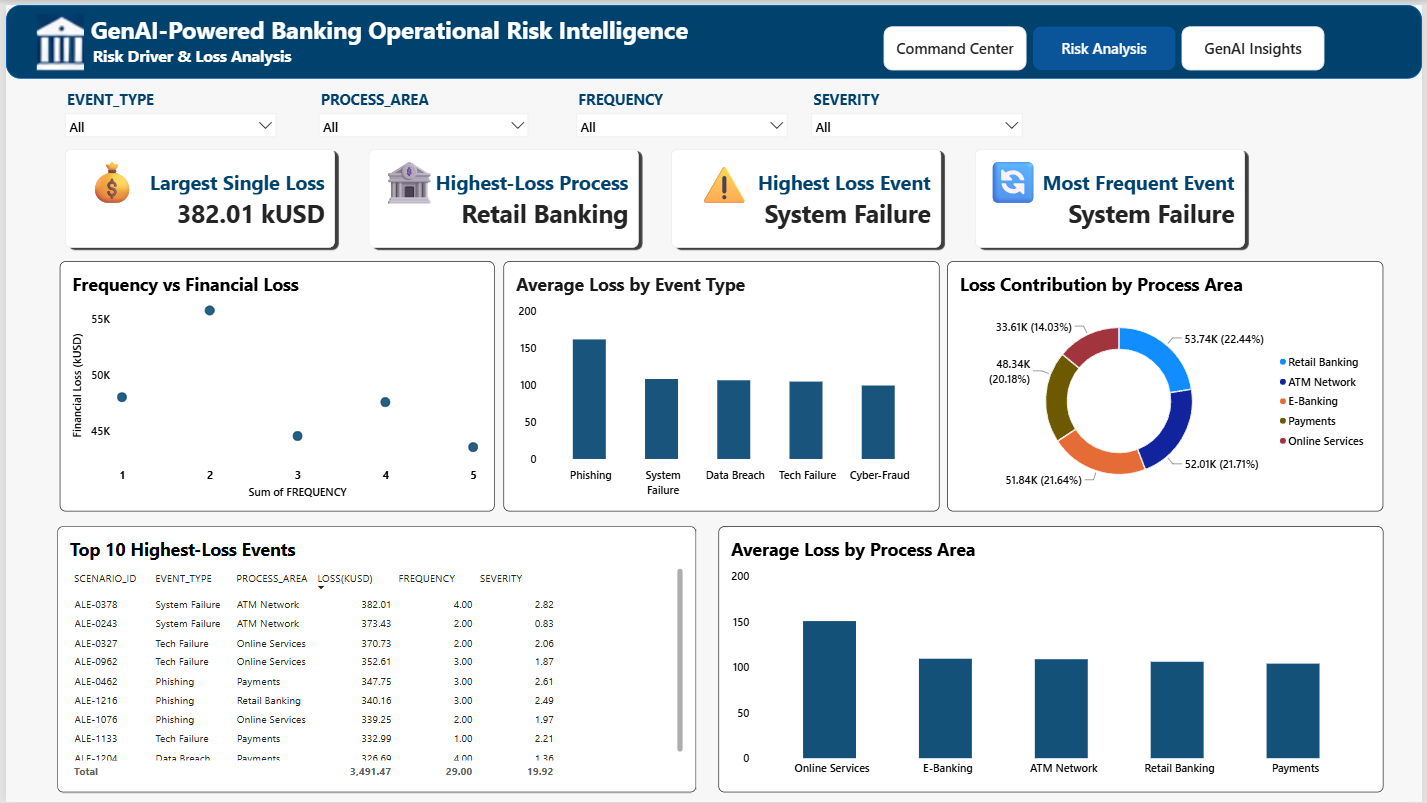

What the dashboard file says about the page in this screenshot:
{"tool":"powerbi","page":{"name":"Risk Analysis","canvas":[1920,1080],"ordinal":1},"visuals":[{"type":"shape","box":[0,0,1920,100],"z":0},{"type":"textbox","box":[0,11.7,1920,88.3],"z":1000},{"type":"image","box":[16.7,11.7,113.3,76.7],"z":2000},{"type":"pageNavigator","box":[1190,28.3,600,60],"z":3000},{"type":"slicer","fields":{"Values":["operational risk.EVENT_TYPE"]},"box":[73.7,111.5,300.2,70.1],"z":4000},{"type":"slicer","fields":{"Values":["operational risk.PROCESS_AREA"]},"box":[417.1,111.5,298.4,70.1],"z":5000},{"type":"slicer","fields":{"Values":["operational risk.FREQUENCY_NK"]},"box":[765.8,111.5,300.2,70.1],"z":6000},{"type":"slicer","fields":{"Values":["operational risk.SEVERITY_XI"]},"box":[1084,111.5,300.2,70.1],"z":7000},{"type":"cardVisual","fields":{"Data":["operational risk.Largest Single Loss 1"]},"box":[73.3,188.3,380,148.3],"z":8000},{"type":"cardVisual","fields":{"Data":["operational risk.Highest-Loss Process"]},"box":[484.4,188.3,380,148.3],"z":9000},{"type":"cardVisual","fields":{"Data":["operational risk.Highest-Loss Event Type"]},"box":[895.6,188.3,380,148.3],"z":10000},{"type":"cardVisual","fields":{"Data":["operational risk.Most Frequent Event Type"]},"box":[1306.7,188.3,380,148.3],"z":11000},{"type":"clusteredColumnChart","title":"Average Loss by Event Type","fields":{"Category":["operational risk.EVENT_TYPE"],"Y":["Avg(operational risk.LOSS_AMOUNT_KUSD)"]},"box":[675,348.2,591.1,339.3],"z":12000},{"type":"donutChart","title":"Loss Contribution by Process Area","fields":{"Category":["operational risk.PROCESS_AREA"],"Y":["Sum(operational risk.LOSS_AMOUNT_KUSD)"]},"box":[1276.8,348.2,591.1,339.3],"z":13000},{"type":"tableEx","title":"Top 10 Highest-Loss Events","fields":{"Values":["operational risk.SCENARIO_ID","operational risk.EVENT_TYPE","operational risk.PROCESS_AREA","Sum(operational risk.LOSS_AMOUNT_KUSD)","Sum(operational risk.FREQUENCY_NK)","Sum(operational risk.SEVERITY_XI)"]},"box":[69.6,707.1,866.1,360.7],"z":14000},{"type":"clusteredColumnChart","title":"Average Loss by Process Area","fields":{"Category":["operational risk.PROCESS_AREA"],"Y":["Avg(operational risk.LOSS_AMOUNT_KUSD)"]},"box":[966.1,707.1,901.8,360.7],"z":15000},{"type":"scatterChart","title":"Frequency vs Financial Loss","fields":{"Category":["Frequency Loss Summary1.FREQUENCY_NK"],"X":["Sum(Frequency Loss Summary1.FREQUENCY_NK)"],"Y":["Sum(Frequency Loss Summary1.Total Loss)"]},"box":[73.2,348.2,589.3,339.3],"z":16000},{"type":"textbox","box":[105,200,99,84],"z":17000},{"type":"textbox","box":[506.7,200,108.3,83.3],"z":18000},{"type":"textbox","box":[935,200,108.3,83.3],"z":19000},{"type":"textbox","box":[1326.7,200,81.7,83.3],"z":20000}]}

Visuals, with their boxes in screenshot pixels (x1, y1, x2, y2), scaled from the page's 1920x1080 canvas onto the 1427x803 screenshot:
shape: (left=0, top=0, right=1426, bottom=74)
textbox: (left=0, top=9, right=1426, bottom=74)
image: (left=12, top=9, right=97, bottom=66)
pageNavigator: (left=884, top=21, right=1330, bottom=66)
slicer - operational risk.EVENT_TYPE: (left=55, top=83, right=278, bottom=135)
slicer - operational risk.PROCESS_AREA: (left=310, top=83, right=532, bottom=135)
slicer - operational risk.FREQUENCY_NK: (left=569, top=83, right=792, bottom=135)
slicer - operational risk.SEVERITY_XI: (left=806, top=83, right=1029, bottom=135)
cardVisual - operational risk.Largest Single Loss 1: (left=54, top=140, right=337, bottom=250)
cardVisual - operational risk.Highest-Loss Process: (left=360, top=140, right=642, bottom=250)
cardVisual - operational risk.Highest-Loss Event Type: (left=666, top=140, right=948, bottom=250)
cardVisual - operational risk.Most Frequent Event Type: (left=971, top=140, right=1254, bottom=250)
"Average Loss by Event Type" clusteredColumnChart: (left=502, top=259, right=941, bottom=511)
"Loss Contribution by Process Area" donutChart: (left=949, top=259, right=1388, bottom=511)
"Top 10 Highest-Loss Events" tableEx: (left=52, top=526, right=695, bottom=794)
"Average Loss by Process Area" clusteredColumnChart: (left=718, top=526, right=1388, bottom=794)
"Frequency vs Financial Loss" scatterChart: (left=54, top=259, right=492, bottom=511)
textbox: (left=78, top=149, right=152, bottom=211)
textbox: (left=377, top=149, right=457, bottom=211)
textbox: (left=695, top=149, right=775, bottom=211)
textbox: (left=986, top=149, right=1047, bottom=211)
